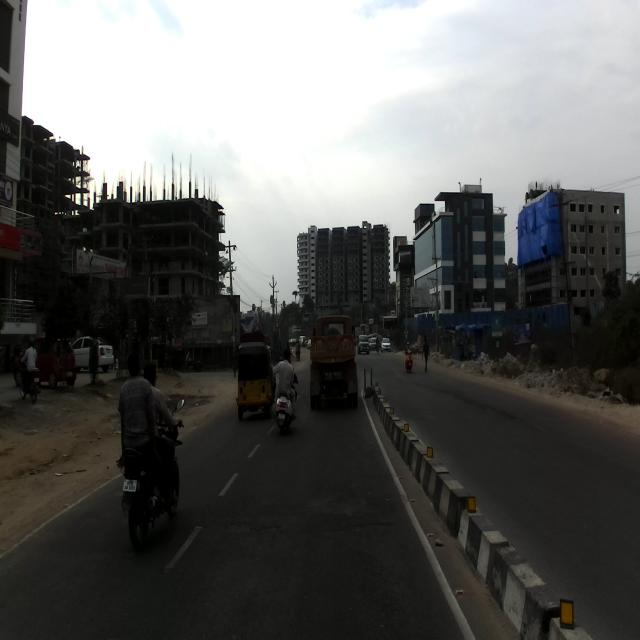motorcycle ahead at: (112, 443, 189, 542), (269, 388, 300, 438)
truck ahead at: (309, 311, 364, 420)
